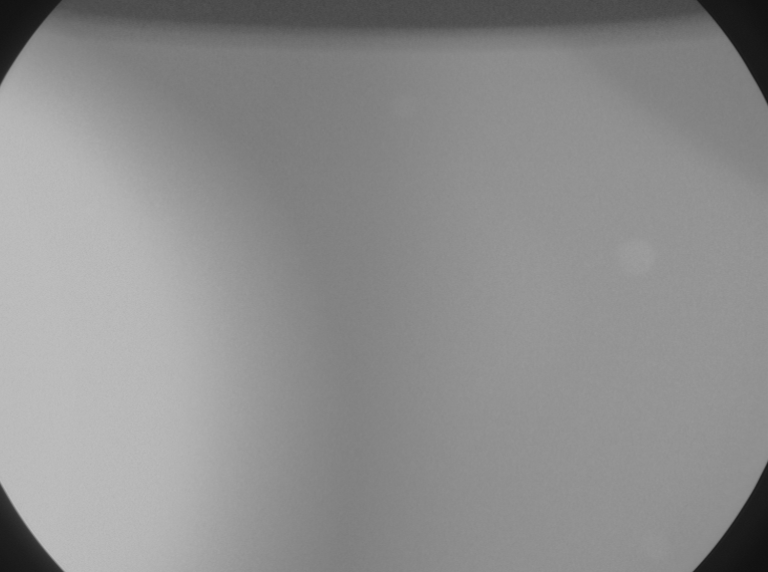defect: (390, 89, 417, 118)
